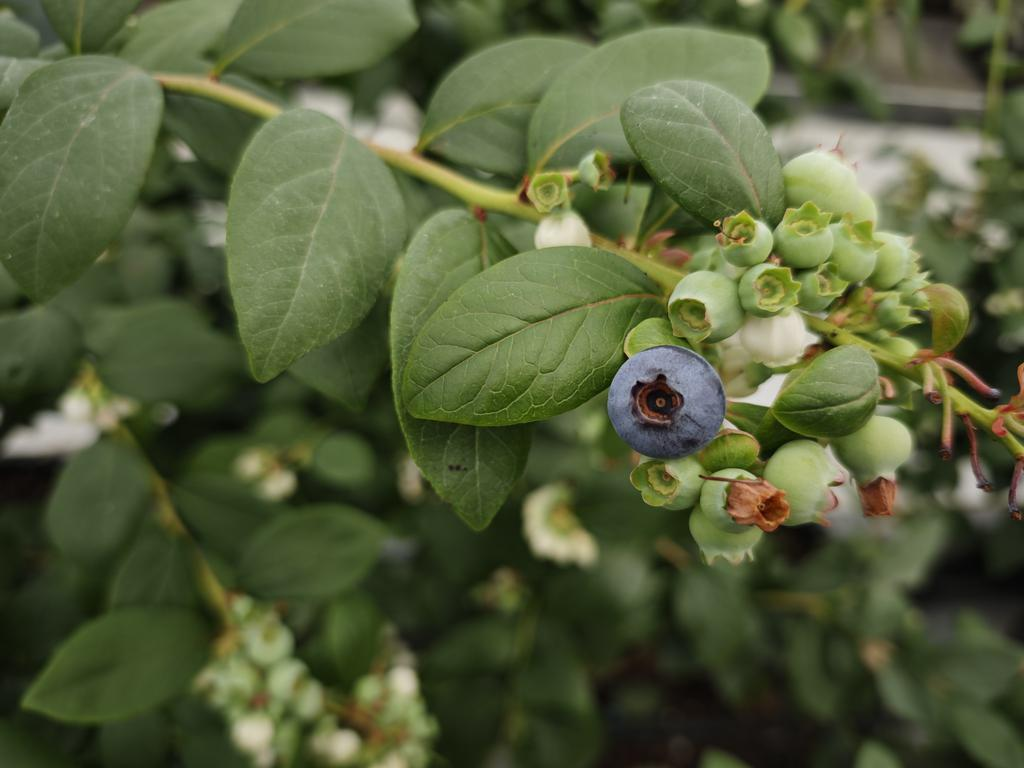RipeBlueBerry: (604, 342, 732, 463)
